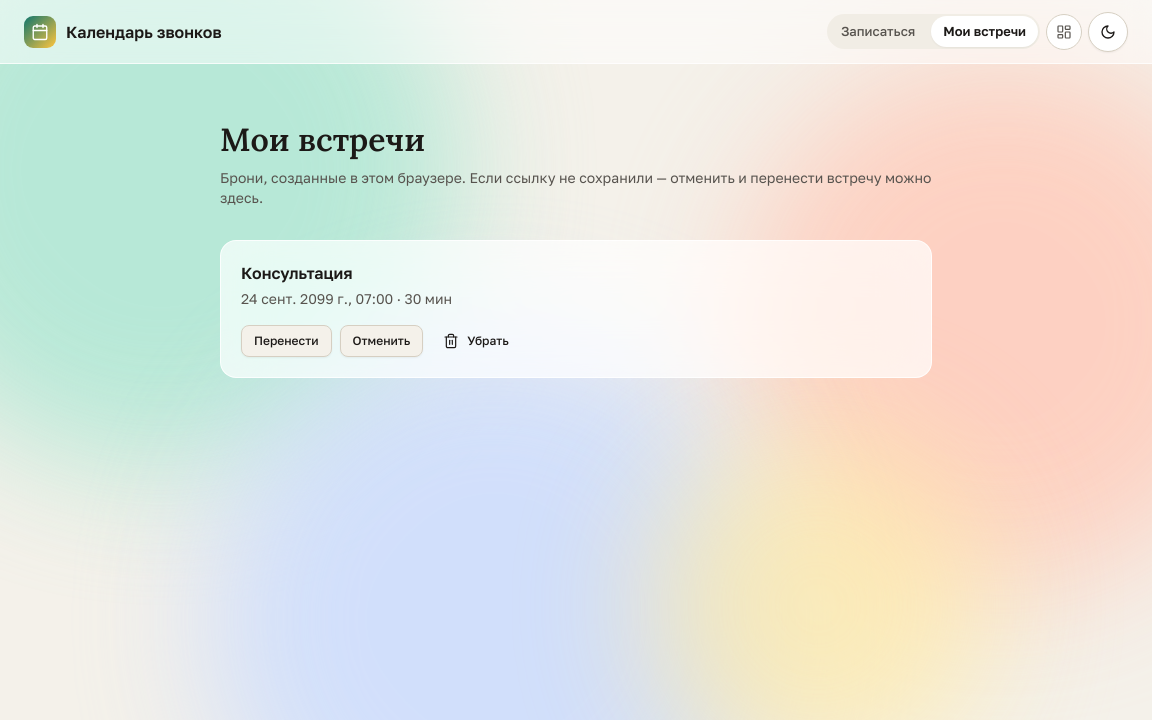
Test: MyBookingsPage › убирает бронь из списка
Click the button with aria-label "Убрать из списка": x=476, y=341 [431, 325, 521, 357]
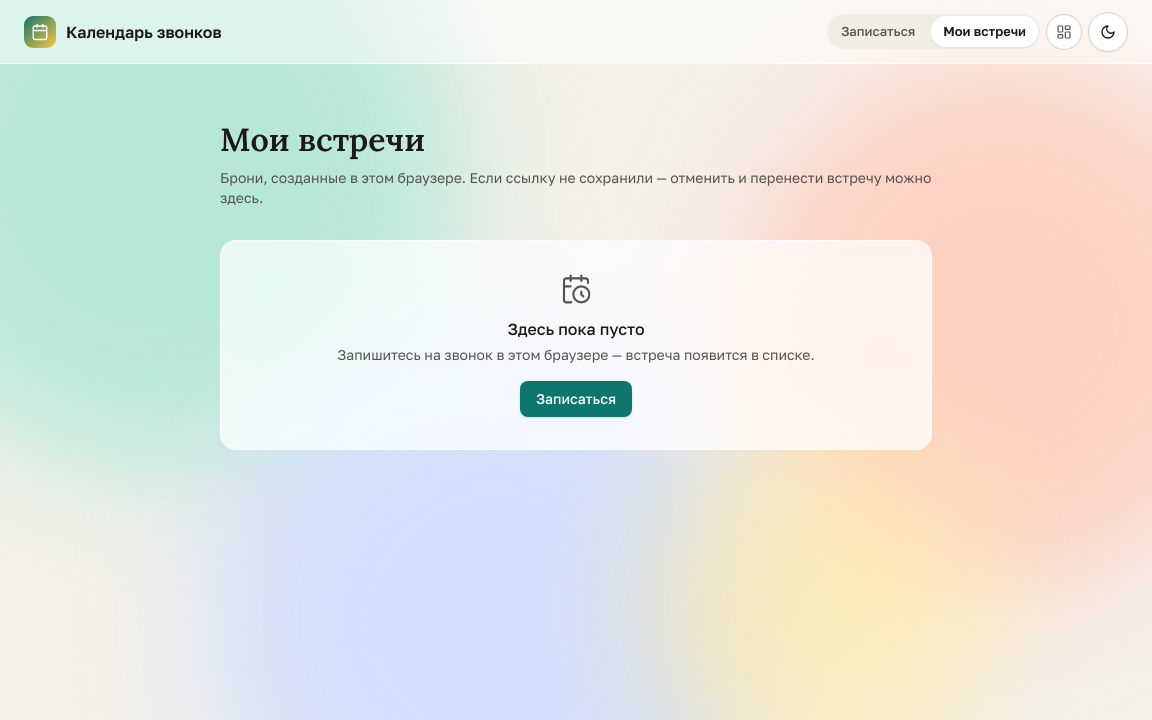
Check: the text "Консультация" is gone
Check: the text "Здесь пока пусто" is shown, box [507, 319, 644, 339]
